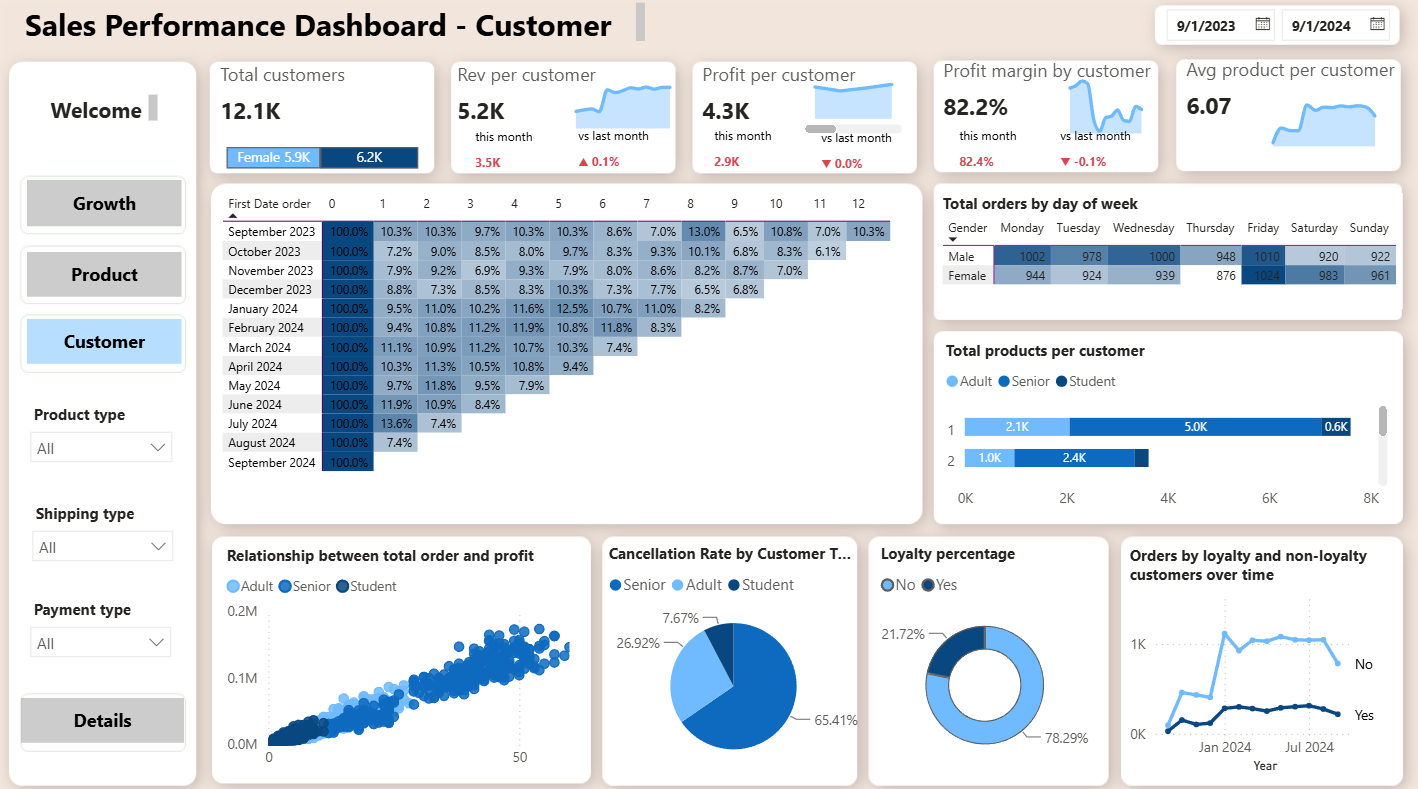

This screenshot's page, from the dashboard's own definition file:
{"tool":"powerbi","page":{"name":"Customer","canvas":[1280,720],"ordinal":2},"visuals":[{"type":"cardVisual","fields":{"Data":["Count(fact_order.customer id)"]},"box":[192.8,43.9,194.2,99.2],"z":0},{"type":"cardVisual","fields":{"Data":["*Measure.M_profit_per_customer_MoM_card"]},"box":[725.7,110.6,140.3,68],"z":1000},{"type":"cardVisual","fields":{"Data":["*Measure.M_revenue_per_customer"]},"box":[402.5,43.9,160.2,99.2],"z":2000},{"type":"textbox","box":[48.2,90.7,110.6,34],"z":3000},{"type":"pieChart","title":"Cancellation Rate by Customer Type","fields":{"Category":["dim_customer.Customer type by age"],"Y":["*Measure.M_cancelled orders"]},"box":[548.9,493,231.4,208.4],"z":4000},{"type":"textbox","box":[31.2,8.5,559.8,45.4],"z":5000},{"type":"slicer","fields":{"Values":["calendar.Start of Month"]},"box":[1036.1,9.9,221.1,49.6],"z":6000},{"type":"actionButton","box":[38.3,171.5,137.5,41.1],"z":7000},{"type":"cardVisual","fields":{"Data":["*Measure.Profit_margin_by_customer"]},"box":[833.5,41.7,228.8,98.4],"z":8000},{"type":"slicer","fields":{"Values":["dim_product.product type"]},"box":[31.2,365.7,146,79.4],"z":9000},{"type":"slicer","fields":{"Values":["dim_shipping.shipping type"]},"box":[32.6,453.5,144.6,63.8],"z":10000},{"type":"areaChart","title":"Order trend","fields":{"Category":["calendar.Start of Month.Variation.Date Hierarchy.Year","calendar.Start of Month.Variation.Date Hierarchy.Quarter","calendar.Start of Month.Variation.Date Hierarchy.Month","calendar.Start of Month.Variation.Date Hierarchy.Day"],"Y":["*Measure.M_revenue_per_customer"]},"box":[510.2,63.8,113.4,66.6],"z":11000},{"type":"actionButton","box":[38.3,235.3,137.5,39.7],"z":12000},{"type":"actionButton","box":[38.3,294.8,137.5,39.7],"z":13000},{"type":"areaChart","title":"Order trend","fields":{"Category":["calendar.Start of Month.Variation.Date Hierarchy.Year","calendar.Start of Month.Variation.Date Hierarchy.Quarter","calendar.Start of Month.Variation.Date Hierarchy.Month","calendar.Start of Month.Variation.Date Hierarchy.Day"],"Y":["*Measure.M_profit_margin_by_customer"]},"box":[948.2,68,93.5,66.6],"z":14000},{"type":"barChart","title":"Order status","fields":{"Series":["dim_customer.gender"],"Y":["Count(fact_order.customer id)"]},"box":[210.1,103.7,219.9,88.7],"z":15000},{"type":"areaChart","title":"Order trend","fields":{"Category":["calendar.Start of Month.Variation.Date Hierarchy.Year","calendar.Start of Month.Variation.Date Hierarchy.Quarter","calendar.Start of Month.Variation.Date Hierarchy.Month","calendar.Start of Month.Variation.Date Hierarchy.Day"],"Y2":["*Measure.M_profit_per_customer"]},"box":[722.8,68,96.4,66.6],"z":16000},{"type":"barChart","title":"Total products per customer","fields":{"Category":["dim_customer.total products"],"Series":["dim_customer.Customer type by age"],"Y":["Count(fact_order.customer id)"]},"box":[847.7,313,401.7,158.7],"z":17000},{"type":"cardVisual","fields":{"Data":["*Measure.M_profit_per_customer"]},"box":[619.4,43.9,192.8,99.2],"z":18000},{"type":"cardVisual","fields":{"Data":["*Measure.M_profit_per_customer_this_month"]},"box":[630.7,109.1,140.3,68],"z":19000},{"type":"cardVisual","fields":{"Data":["*Measure.M_revenue_per_customer_this_month"]},"box":[418.1,110.6,103.5,65.2],"z":20000},{"type":"cardVisual","fields":{"Data":["*Measure.M_rev_per_cus_MoM_card"]},"box":[510.2,110.6,104.9,63.8],"z":21000},{"type":"cardVisual","fields":{"Data":["*Measure.M_profit_margin_by_customer_this_month"]},"box":[847.6,109.1,147.4,68],"z":22000},{"type":"cardVisual","fields":{"Data":["*Measure.M_profit_margin_by_customer_MoM_card"]},"box":[936.9,109.1,114.8,68],"z":23000},{"type":"slicer","fields":{"Values":["dim_payment.payment type"]},"box":[31.2,538.6,144.6,59.5],"z":24000},{"type":"actionButton","box":[32.6,630.7,144.6,39.7],"z":25000},{"type":"scatterChart","title":"Relationship between total order and profit","fields":{"Category":["calendar.Date"],"Series":["dim_customer.Customer type by age"],"X":["CountNonNull(fact_order.order id)"],"Y":["*Measure.M_profit"]},"box":[210.1,494.8,321,206.6],"z":26000},{"type":"pivotTable","title":"Total orders by day of week","fields":{"Columns":["calendar.Day Name"],"Rows":["dim_customer.gender"],"Values":["*Measure.M_completed oders"]},"box":[844.8,182.7,412.6,103.1],"z":27000},{"type":"pivotTable","fields":{"Columns":["month_after.Value"],"Rows":["dim_customer.First Date order (EOM)"],"Values":["*Measure.M_customer_retention_rate"]},"box":[206.6,178.2,612.7,293.5],"z":28000},{"type":"donutChart","title":"Loyalty percentage","fields":{"Series":["fact_order.loyalty"],"Y":["*Measure.M_order"]},"box":[790.3,493.4,194.6,206.4],"z":29000},{"type":"lineChart","title":"Orders by loyalty and non-loyalty customers over time","fields":{"Category":["calendar.Start of Month.Variation.Date Hierarchy.Year","calendar.Start of Month.Variation.Date Hierarchy.Quarter","calendar.Start of Month.Variation.Date Hierarchy.Month","calendar.Start of Month.Variation.Date Hierarchy.Day"],"Series":["fact_order.loyalty"],"Y":["*Measure.M_completed oders"]},"box":[1010.8,494.8,238.5,206.6],"z":30000},{"type":"cardVisual","fields":{"Data":["*Measure.M_product_per_cus"]},"box":[1049,39.9,221.7,99.3],"z":31000},{"type":"areaChart","title":"Order trend","fields":{"Category":["calendar.Start of Month.Variation.Date Hierarchy.Year","calendar.Start of Month.Variation.Date Hierarchy.Quarter","calendar.Start of Month.Variation.Date Hierarchy.Month","calendar.Start of Month.Variation.Date Hierarchy.Day"],"Y":["*Measure.M_product_per_cus"]},"box":[1128.2,80.8,120.5,66.6],"z":32000}]}

Visuals, with their boxes in screenshot pixels (x1, y1, x2, y2), scaled from the page's 1280x720 canvas onto the 1418x789 screenshot:
cardVisual - Count(fact_order.customer id): bbox=[214, 48, 429, 157]
cardVisual - *Measure.M_profit_per_customer_MoM_card: bbox=[804, 121, 959, 196]
cardVisual - *Measure.M_revenue_per_customer: bbox=[446, 48, 623, 157]
textbox: bbox=[53, 99, 176, 137]
"Cancellation Rate by Customer Type" pieChart: bbox=[608, 540, 864, 769]
textbox: bbox=[35, 9, 655, 59]
slicer - calendar.Start of Month: bbox=[1148, 11, 1393, 65]
actionButton: bbox=[42, 188, 195, 233]
cardVisual - *Measure.Profit_margin_by_customer: bbox=[923, 46, 1177, 154]
slicer - dim_product.product type: bbox=[35, 401, 196, 488]
slicer - dim_shipping.shipping type: bbox=[36, 497, 196, 567]
"Order trend" areaChart: bbox=[565, 70, 691, 143]
actionButton: bbox=[42, 258, 195, 301]
actionButton: bbox=[42, 323, 195, 367]
"Order trend" areaChart: bbox=[1050, 75, 1154, 147]
"Order status" barChart: bbox=[233, 114, 476, 211]
"Order trend" areaChart: bbox=[801, 75, 908, 147]
"Total products per customer" barChart: bbox=[939, 343, 1384, 517]
cardVisual - *Measure.M_profit_per_customer: bbox=[686, 48, 900, 157]
cardVisual - *Measure.M_profit_per_customer_this_month: bbox=[699, 120, 854, 194]
cardVisual - *Measure.M_revenue_per_customer_this_month: bbox=[463, 121, 578, 193]
cardVisual - *Measure.M_rev_per_cus_MoM_card: bbox=[565, 121, 681, 191]
cardVisual - *Measure.M_profit_margin_by_customer_this_month: bbox=[939, 120, 1102, 194]
cardVisual - *Measure.M_profit_margin_by_customer_MoM_card: bbox=[1038, 120, 1165, 194]
slicer - dim_payment.payment type: bbox=[35, 590, 195, 655]
actionButton: bbox=[36, 691, 196, 735]
"Relationship between total order and profit" scatterChart: bbox=[233, 542, 588, 769]
"Total orders by day of week" pivotTable: bbox=[936, 200, 1393, 313]
pivotTable - month_after.Value x dim_customer.First Date order (EOM): bbox=[229, 195, 908, 517]
"Loyalty percentage" donutChart: bbox=[876, 541, 1091, 767]
"Orders by loyalty and non-loyalty customers over time" lineChart: bbox=[1120, 542, 1384, 769]
cardVisual - *Measure.M_product_per_cus: bbox=[1162, 44, 1408, 153]
"Order trend" areaChart: bbox=[1250, 89, 1383, 162]
